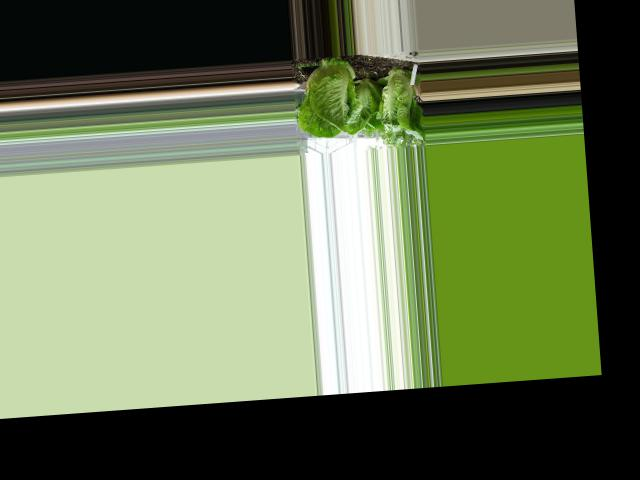lettuce: (371, 58, 420, 141)
